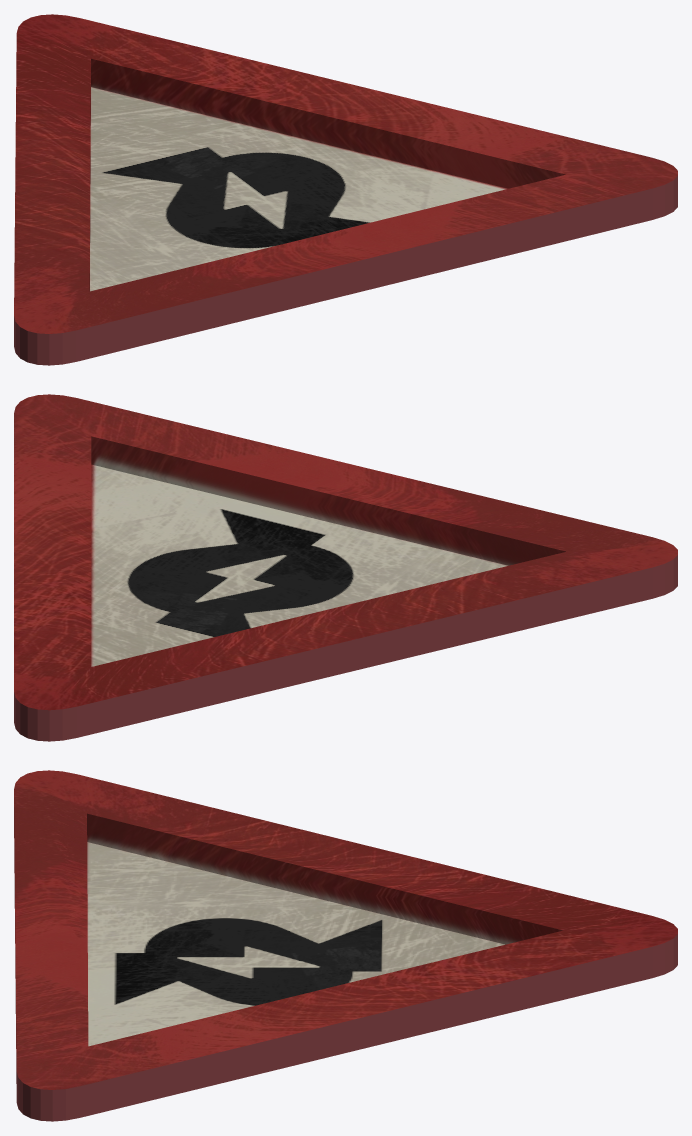
3 views of the same model, one above another, from view 1: azimuth 30°, elevation 25°; view 2: azimuth 150°, elevation 25°; view 3: azimuth 270°, elevation 25° (orthographic).
Visible parts, largest first — view 1: Cylinder.010; view 2: Cylinder.010; view 3: Cylinder.010.
Part boxes in pixels (bbox=[...]): Cylinder.010: bbox=[14, 14, 677, 365]; Cylinder.010: bbox=[14, 394, 677, 741]; Cylinder.010: bbox=[14, 770, 677, 1121].
Bounding box in the file's own units: 234 × 10.74 × 205.
Materials: 3 (1 with a texture image).
